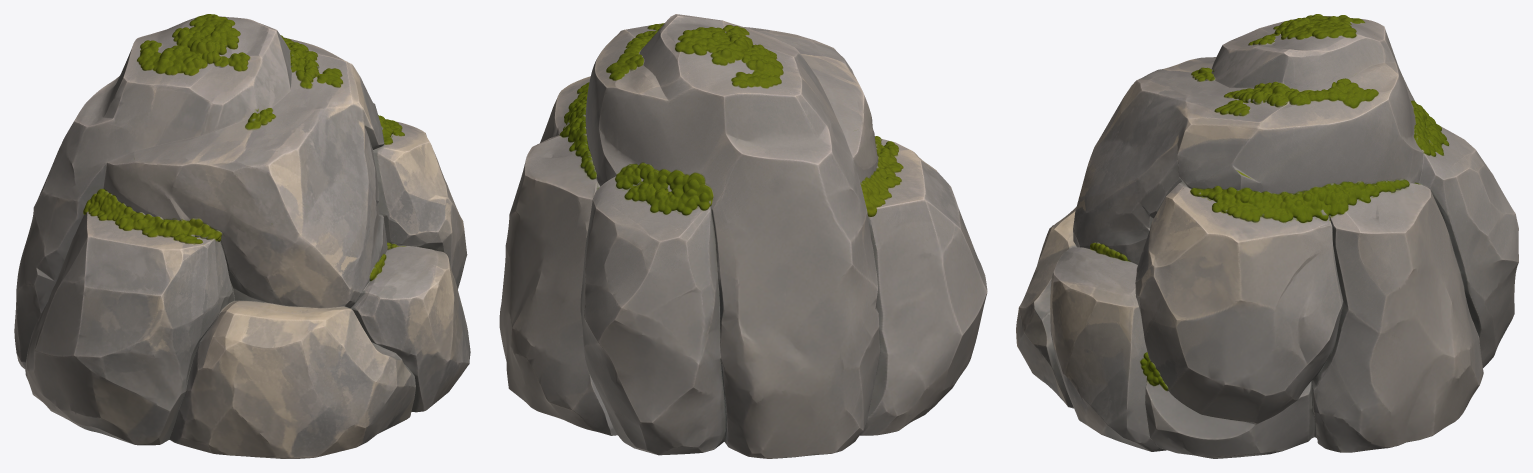
File: Felsen.glb
3 views of the same model, side by side, from view 1: azimuth 30°, elevation 25°; view 2: azimuth 150°, elevation 25°; view 3: azimuth 270°, elevation 25° (orthographic). The views are drawn at different scales.
Size of the model in its own units: 1.9 by 1.44 by 1.9.
Materials: 1 (1 with a texture image).
